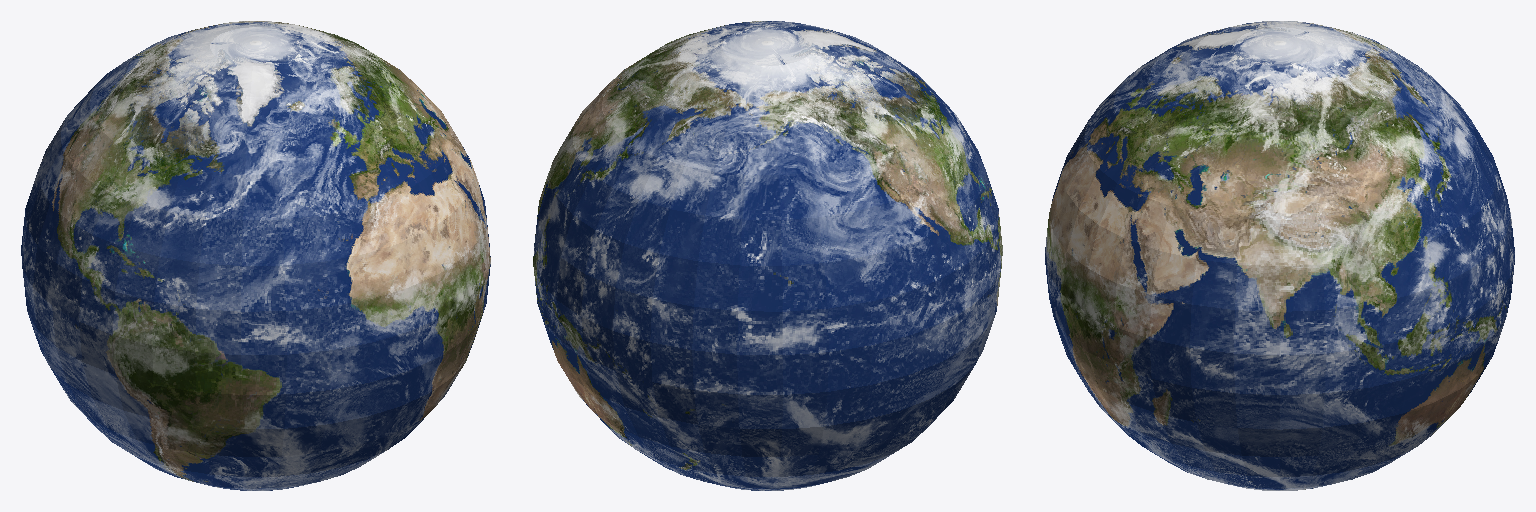
3 renders of one model, left to right at view 1: azimuth 30°, elevation 25°; view 2: azimuth 150°, elevation 25°; view 3: azimuth 270°, elevation 25°, orthographic.
Parts seen in each view (by area): view 1: Sphere_Sphere.001; view 2: Sphere_Sphere.001; view 3: Sphere_Sphere.001.
Boxes of the visible parts, <box> form: Sphere_Sphere.001: <box>21,21,490,490</box>; Sphere_Sphere.001: <box>533,21,1002,490</box>; Sphere_Sphere.001: <box>1045,21,1514,490</box>.
Size of the model in its own units: 2 by 2 by 2.
1 materials, 1 textured.